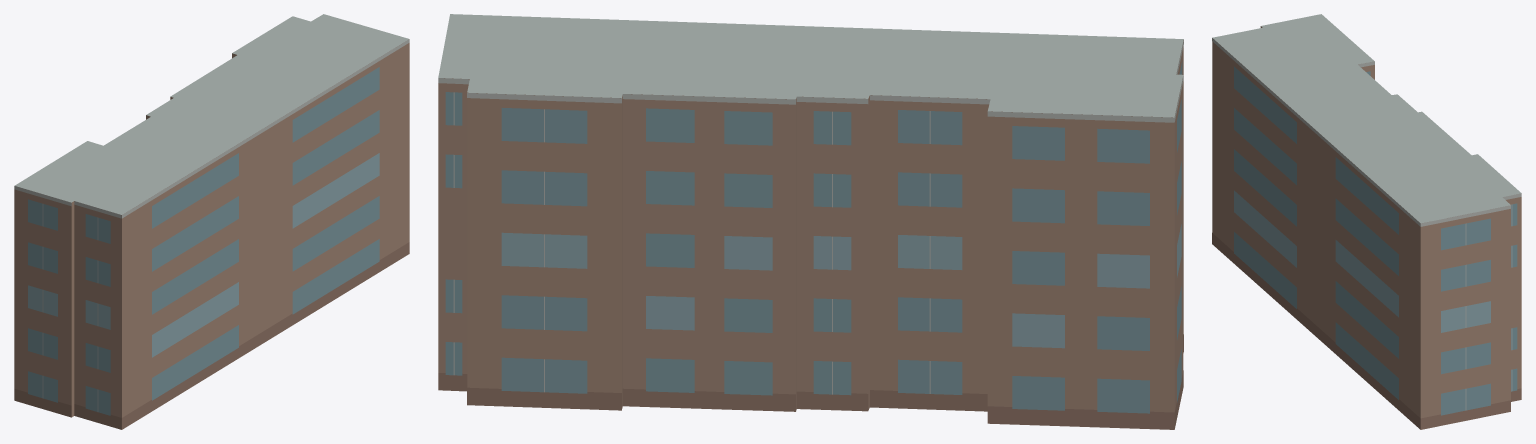
File: survey-upis-32524228.glb
The picture shows the model from 3 angles, left to right: view 1: azimuth 30°, elevation 25°; view 2: azimuth 150°, elevation 25°; view 3: azimuth 270°, elevation 25°; orthographic projection. The views are drawn at different scales.
Visible parts, largest first — view 1: survey-upis-32524228.tmp; view 2: survey-upis-32524228.tmp; view 3: survey-upis-32524228.tmp.
Part boxes in pixels (<box>): survey-upis-32524228.tmp: <box>14,14,409,429</box>; survey-upis-32524228.tmp: <box>438,14,1183,429</box>; survey-upis-32524228.tmp: <box>1212,14,1521,429</box>.
Bounding box in the file's own units: 31.34 × 14.4 × 19.57.
